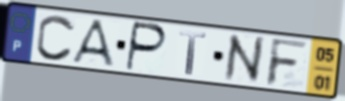A: (69, 18, 117, 69)
C: (34, 13, 77, 63)
F: (264, 37, 311, 89)
N: (223, 32, 266, 84)
P: (123, 20, 170, 73)
T: (178, 29, 209, 77)
